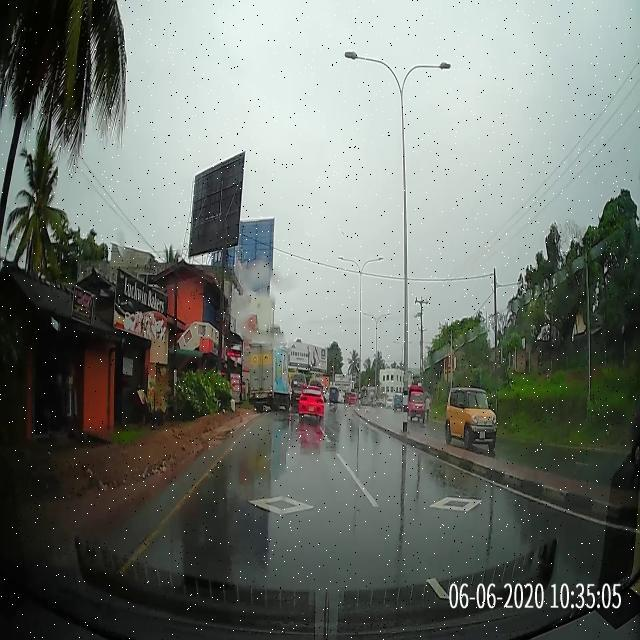diamond: (168, 480, 388, 528)
